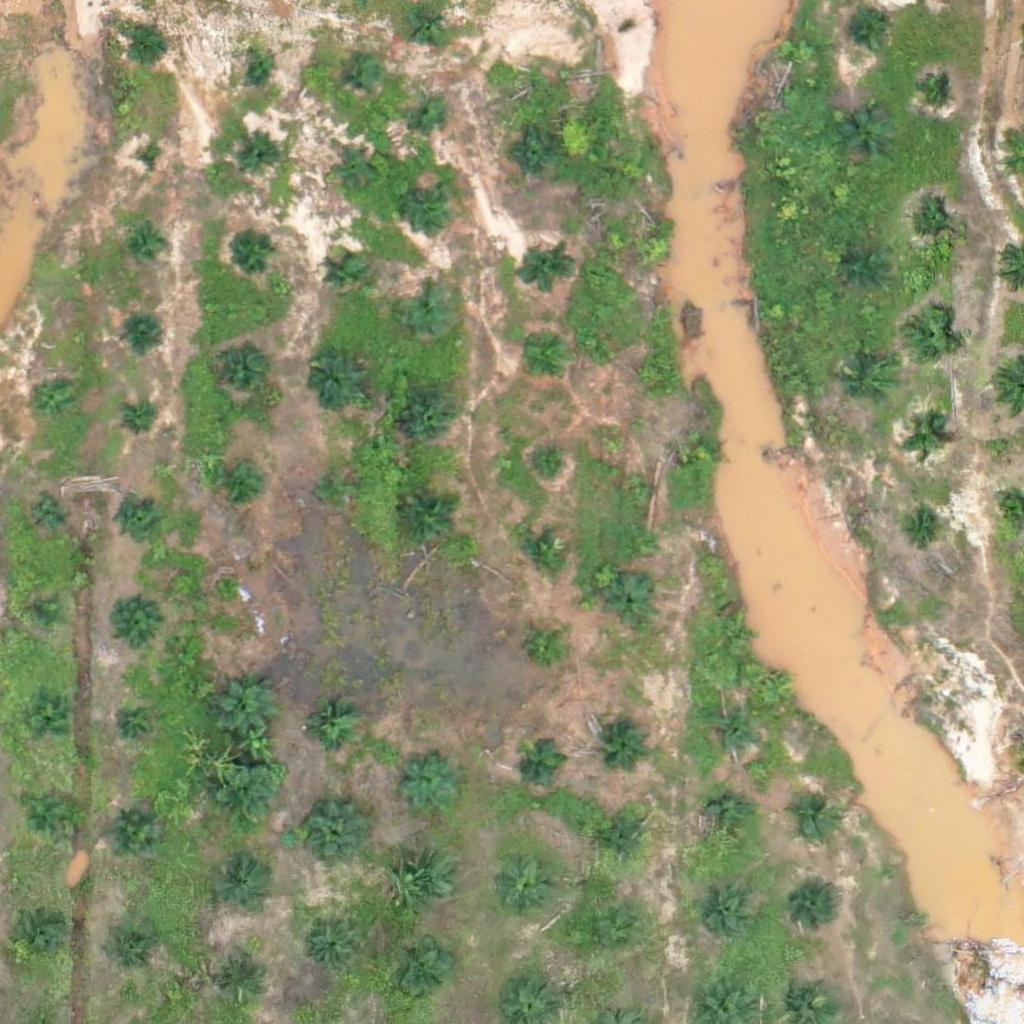Kelapa_Sawit: (577, 908, 640, 971), (692, 884, 755, 947), (302, 348, 365, 411), (300, 701, 363, 764), (304, 801, 367, 864), (399, 284, 462, 347), (214, 677, 277, 740), (7, 908, 70, 970), (388, 940, 450, 1003), (499, 855, 561, 918), (398, 753, 460, 816), (216, 766, 278, 829), (394, 853, 456, 916), (406, 391, 456, 442), (405, 494, 455, 545), (111, 596, 161, 647), (516, 526, 566, 577), (218, 345, 268, 396), (230, 226, 280, 277), (407, 182, 457, 232), (111, 934, 161, 984), (213, 866, 263, 916), (221, 959, 271, 1009), (304, 922, 354, 972), (107, 806, 157, 856), (793, 883, 843, 933), (600, 714, 650, 764), (518, 739, 568, 789), (25, 786, 75, 836), (707, 709, 757, 759), (606, 578, 656, 628), (703, 794, 753, 844), (789, 793, 839, 843), (597, 818, 647, 868), (111, 698, 161, 748), (24, 694, 74, 744), (908, 203, 958, 253), (906, 312, 956, 362), (520, 246, 570, 296), (518, 336, 568, 386), (842, 111, 892, 161), (511, 131, 561, 181), (844, 362, 894, 412), (715, 616, 753, 654), (527, 627, 565, 665), (22, 593, 60, 631), (905, 417, 943, 455), (906, 508, 944, 546), (619, 468, 657, 506), (629, 355, 667, 393), (635, 230, 673, 268), (846, 12, 884, 50), (127, 320, 165, 358), (121, 400, 159, 438), (245, 48, 283, 86), (413, 90, 451, 128), (413, 3, 451, 41), (221, 464, 259, 502), (683, 430, 720, 468), (846, 250, 883, 288), (123, 29, 161, 66), (132, 145, 170, 182), (129, 229, 167, 266), (241, 132, 279, 169), (346, 57, 383, 95), (336, 153, 373, 191), (34, 377, 71, 415), (317, 470, 354, 508), (118, 496, 155, 534), (26, 494, 63, 532), (529, 449, 566, 486), (327, 257, 364, 294), (925, 79, 950, 104)
